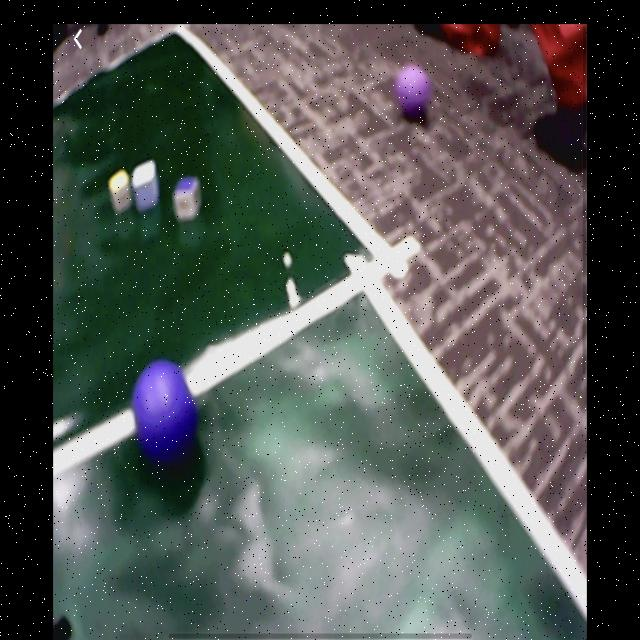ball: (136, 363, 197, 456), (397, 65, 433, 117)
